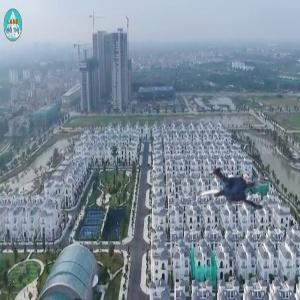drone: (189, 149, 274, 234)
